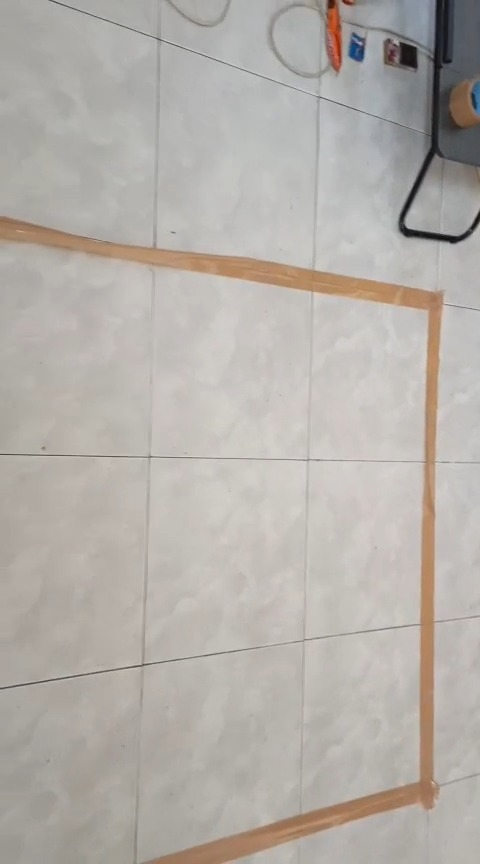floor marking: (0, 217, 442, 863)
